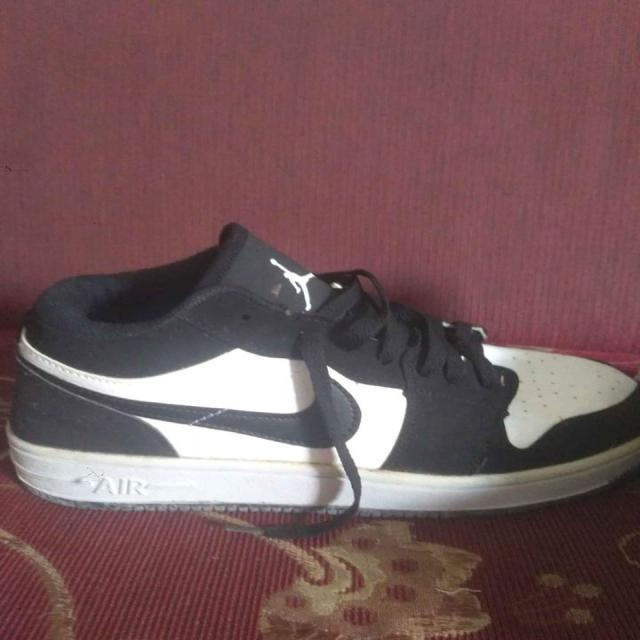nike fake jordan 1: (0, 220, 640, 515)
